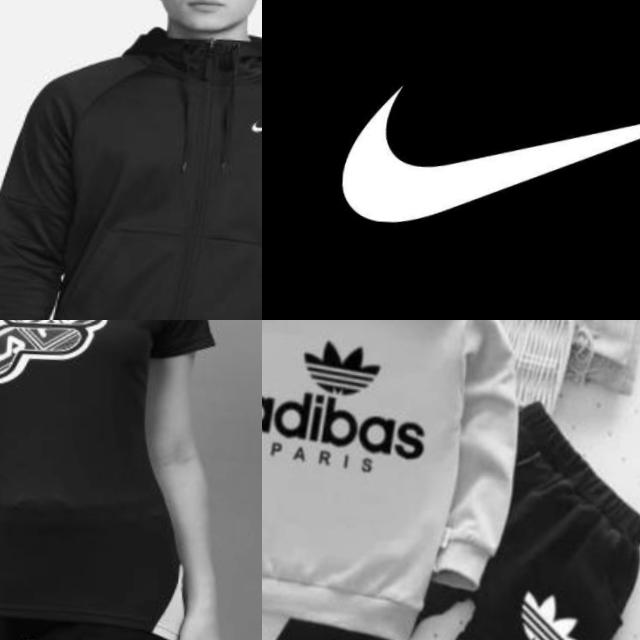ADIDAS_fake: (262, 320, 434, 489), (262, 379, 439, 476), (294, 324, 388, 408), (507, 577, 596, 640)
FILA_original: (0, 320, 118, 396)
NIKE_original: (309, 42, 640, 262), (230, 98, 262, 151)
